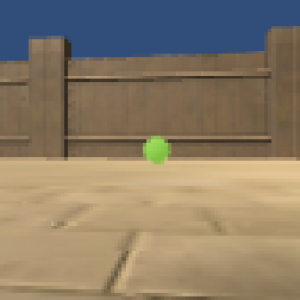goodGoal: (140, 136, 173, 165)
